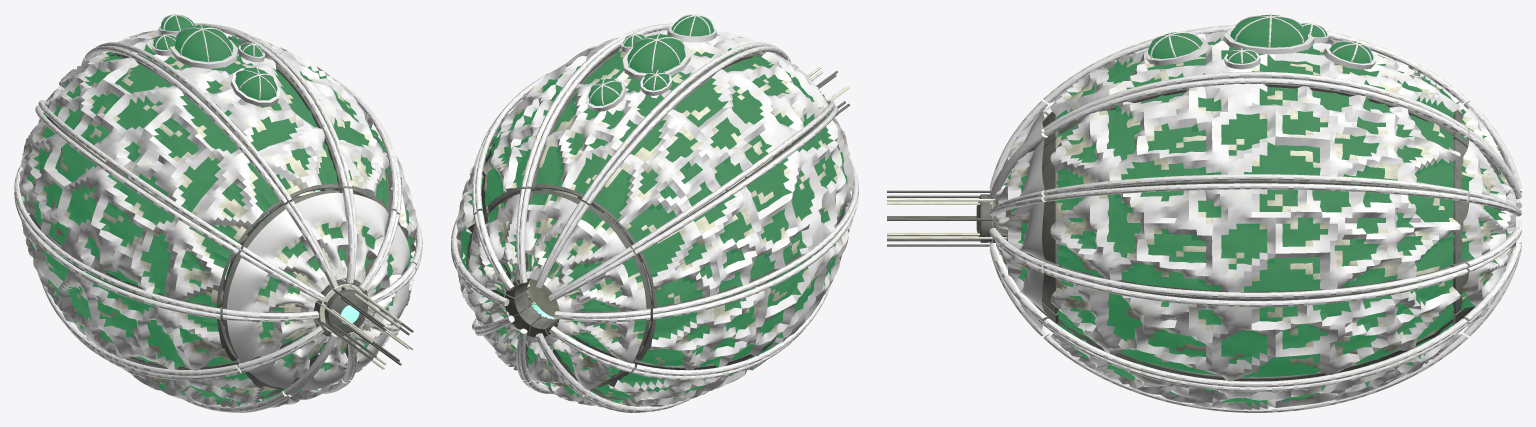
File: weltenkruemmer.veyari.rig.klein.glb
3 renders of one model, left to right at view 1: azimuth 30°, elevation 25°; view 2: azimuth 150°, elevation 25°; view 3: azimuth 270°, elevation 25°, orthographic. The views are drawn at different scales.
Parts seen in each view (by area): view 1: platte_01, platte_02, platte_03, platte_00, platte_09, tuerme_oben, platte_04, klappe_vorn_01, klappe_vorn_02, klappe_vorn_00, klappe_vorn_03, klappe_vorn_09 (+10 smaller); view 2: platte_01, platte_02, platte_03, platte_00, platte_09, tuerme_oben, platte_04, klappe_hinten_01, klappe_hinten_02, klappe_hinten_00, klappe_hinten_03, klappe_hinten_09 (+9 smaller); view 3: platte_08, platte_09, platte_07, platte_00, platte_06, tuerme_oben, klappe_hinten_08, klappe_vorn_08, klappe_hinten_09, klappe_vorn_09, klappe_hinten_07, klappe_vorn_07 (+8 smaller).
Boxes of the visible parts, box(x1,y1,x2,y2) form: platte_01: box(38, 46, 287, 249); platte_02: box(14, 105, 238, 314); platte_03: box(14, 192, 238, 375); platte_00: box(92, 23, 347, 200); platte_09: box(213, 24, 398, 211); tuerme_oben: box(151, 14, 280, 106); platte_04: box(67, 322, 287, 412); klappe_vorn_01: box(240, 203, 335, 299); klappe_vorn_02: box(217, 249, 323, 318); klappe_vorn_00: box(281, 186, 354, 286); klappe_vorn_03: box(213, 305, 323, 369); klappe_vorn_09: box(337, 183, 396, 289); platte_01: box(586, 46, 834, 249); platte_02: box(634, 105, 858, 314); platte_03: box(634, 191, 858, 376); platte_00: box(525, 23, 778, 201); platte_09: box(475, 24, 667, 211); tuerme_oben: box(585, 14, 717, 111); platte_04: box(586, 328, 805, 412); klappe_hinten_01: box(537, 203, 632, 299); klappe_hinten_02: box(550, 249, 656, 318); klappe_hinten_00: box(519, 187, 591, 286); klappe_hinten_03: box(549, 306, 660, 369); klappe_hinten_09: box(477, 183, 535, 289); platte_08: box(1043, 183, 1467, 298); platte_09: box(1043, 78, 1467, 195); platte_07: box(1043, 267, 1467, 387); platte_00: box(1043, 26, 1467, 135); platte_06: box(1043, 319, 1467, 412); tuerme_oben: box(1144, 14, 1376, 69); klappe_hinten_08: box(1449, 196, 1521, 267); klappe_vorn_08: box(989, 196, 1061, 267); klappe_hinten_09: box(1453, 133, 1521, 212); klappe_vorn_09: box(989, 132, 1058, 211); klappe_hinten_07: box(1444, 231, 1521, 321); klappe_vorn_07: box(989, 232, 1065, 321).
Size of the model in its own units: 2.05 by 2.14 by 3.33.
Materials: 6 (4 with a texture image).
